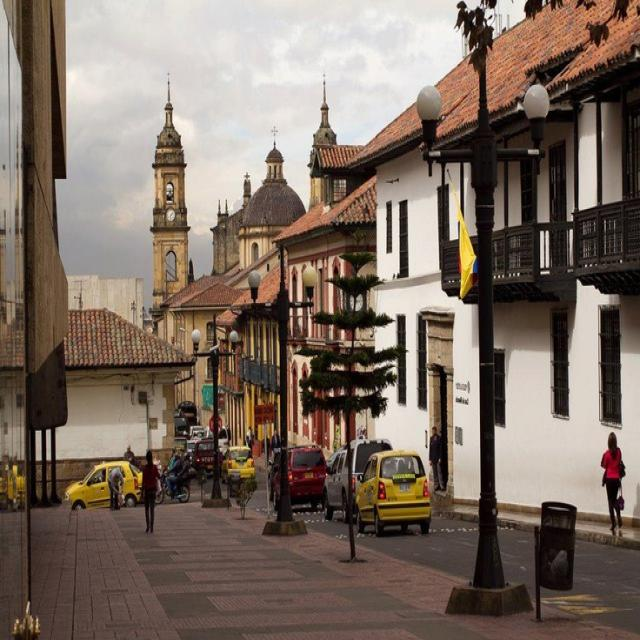Fachada: (357, 8, 640, 515), (277, 178, 377, 448), (57, 310, 191, 479), (222, 260, 282, 441), (220, 342, 245, 443)
Poste: (417, 57, 548, 588), (249, 244, 317, 533), (210, 330, 237, 505), (192, 329, 204, 357)
